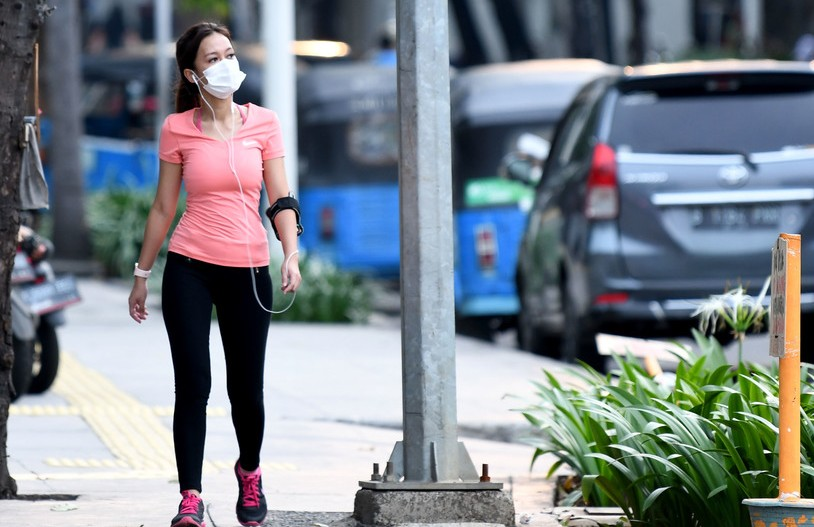with_mask: (176, 34, 249, 102)
